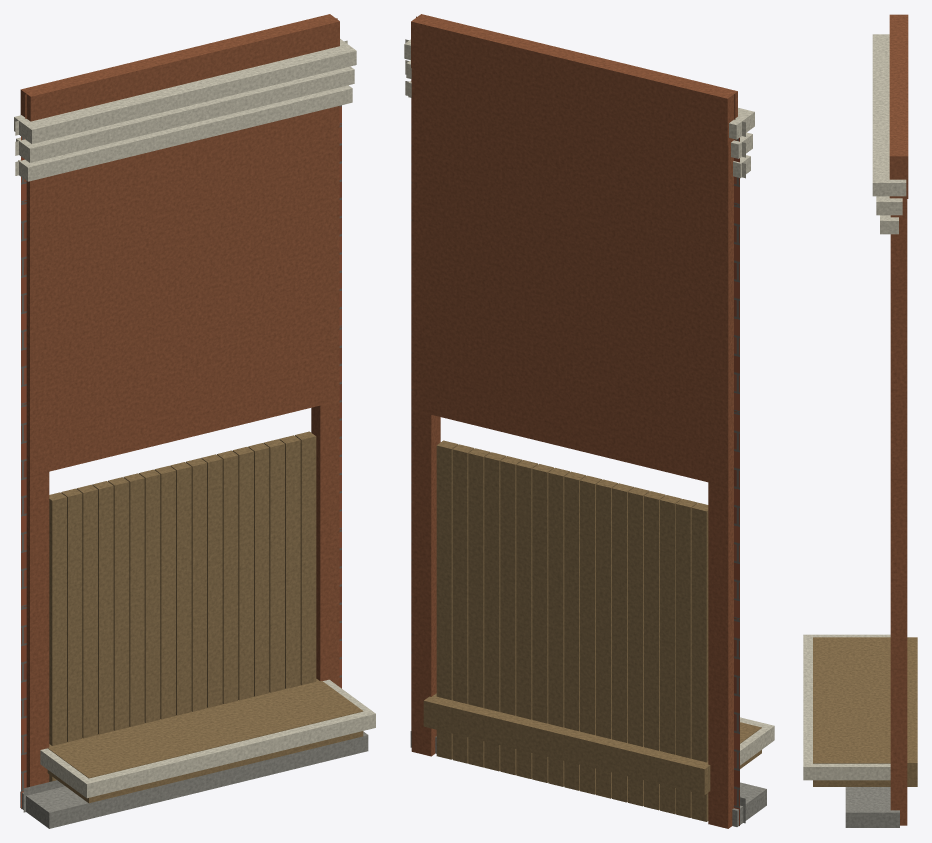
File: WHSE16_lod2.glb
The picture shows the model from 3 angles, left to right: view 1: azimuth 30°, elevation 25°; view 2: azimuth 150°, elevation 25°; view 3: azimuth 270°, elevation 25°; orthographic projection. The views are drawn at different scales.
Visible parts, largest first — view 1: WHSE16_FRONT_LOD2; view 2: WHSE16_FRONT_LOD2; view 3: WHSE16_FRONT_LOD2.
Boxes of the visible parts, x1,y1,x2,y2 form: WHSE16_FRONT_LOD2: (14, 14, 375, 828); WHSE16_FRONT_LOD2: (404, 14, 774, 828); WHSE16_FRONT_LOD2: (803, 14, 917, 827).
Bounding box in the file's own units: 3.44 × 7.05 × 1.1.
6 materials, 6 textured.
